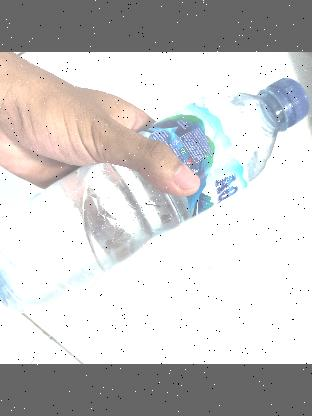Plastic Bottle: (0, 74, 311, 316)
